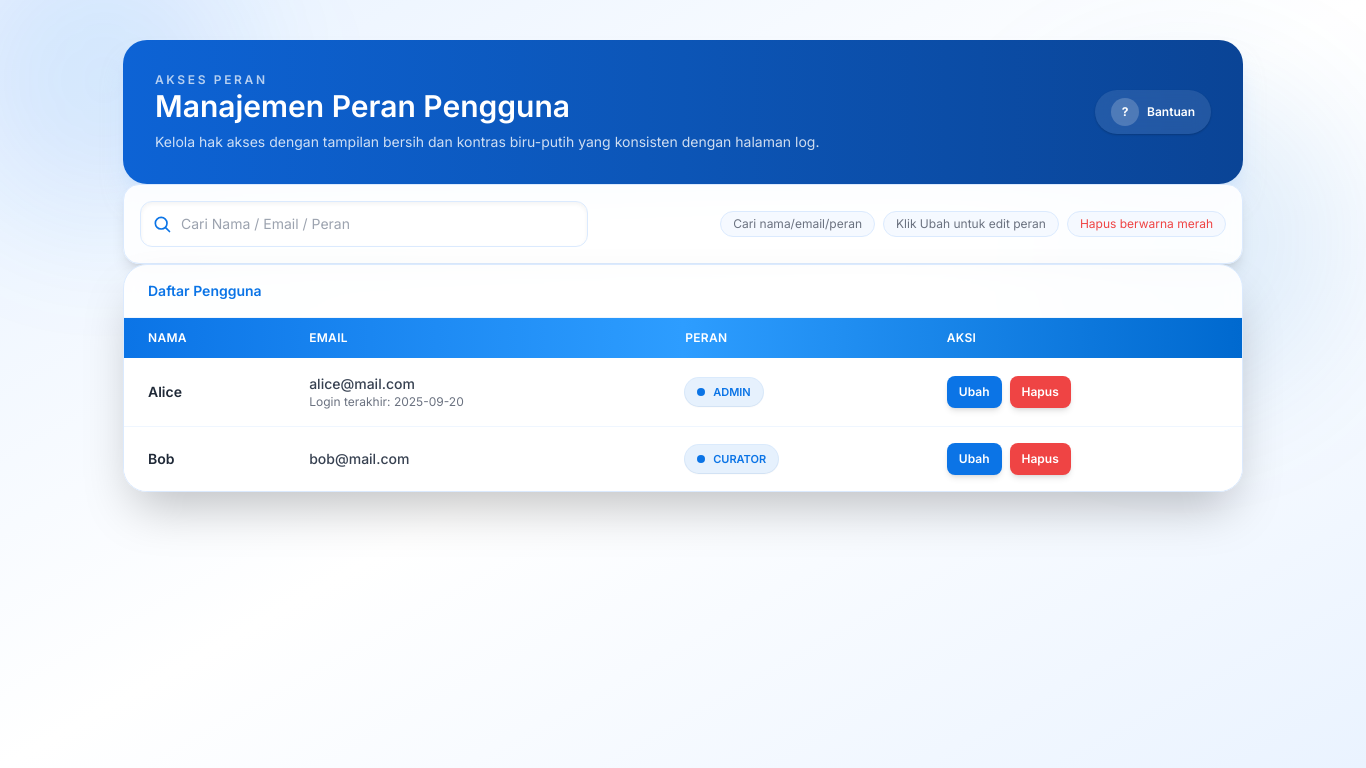
it: confirm modal flow (non-legacy) deletes and shows toast
This screenshot has width=1366, height=768.
expect the text "Bob" is shown: met, box [148,450,174,467]
# click Hapus to open modal
Click the button "Hapus" in the row of "bob@mail.com".
click(1040, 459)  # box [1010,443,1071,475]
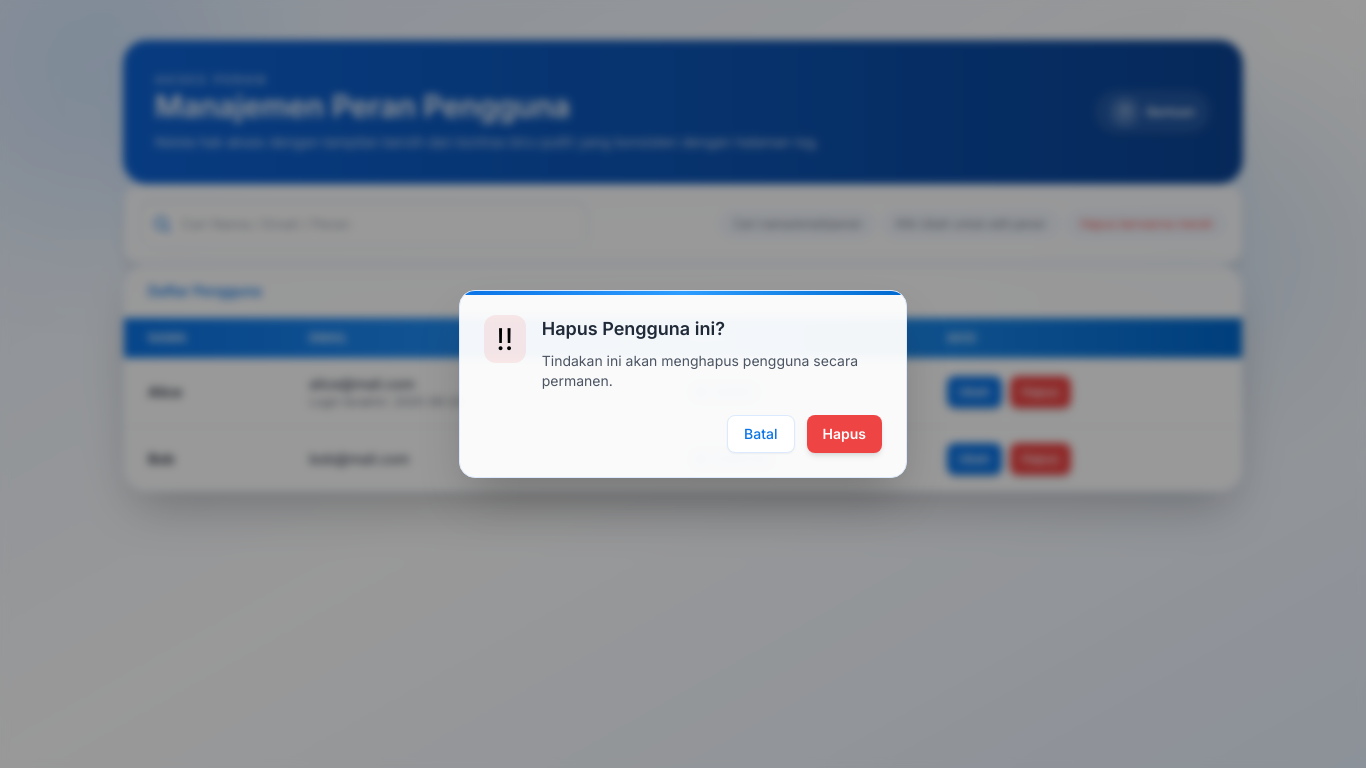
expect the heading "Hapus Pengguna ini?" is shown: met, box [542,318,725,339]
# the modal Hapus is the last one rendered inside modal
Click the button "Hapus".
click(844, 434)  # box [806,415,882,453]
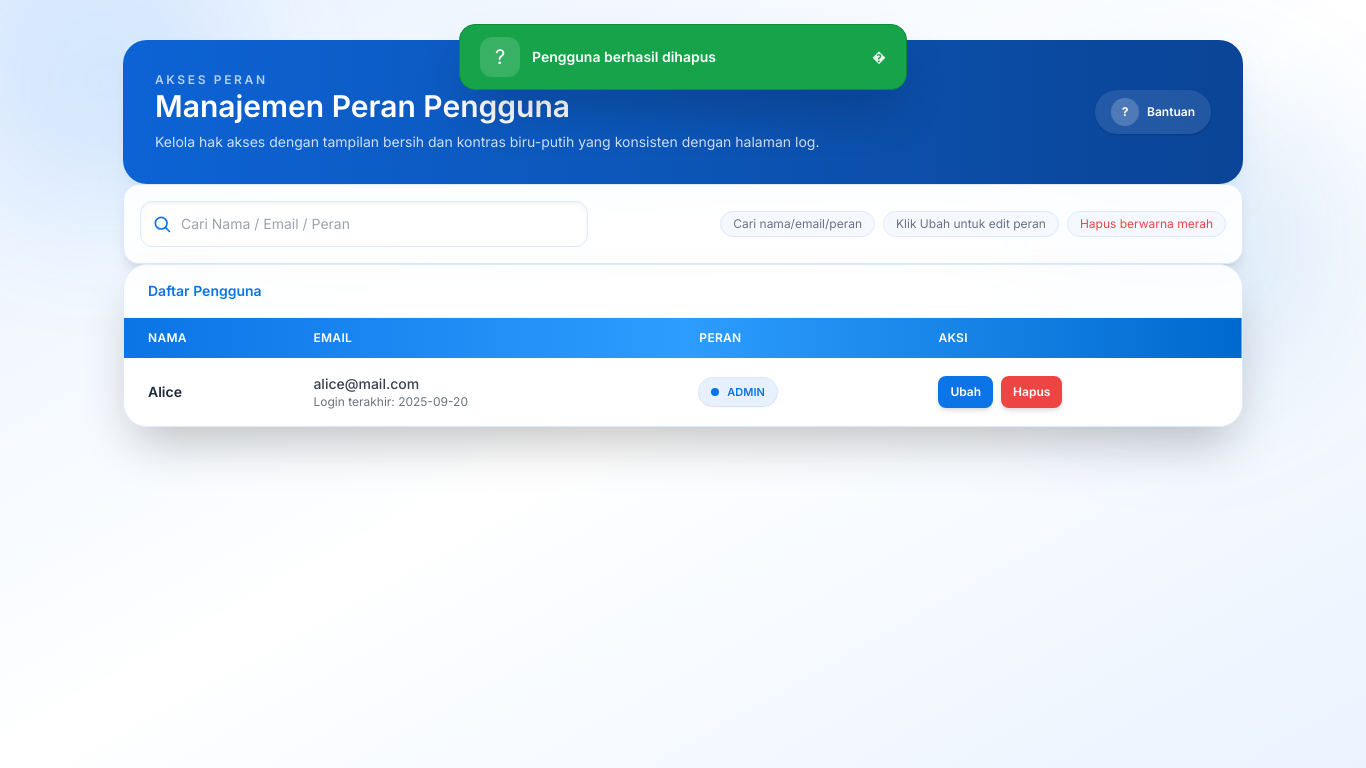
expect the text "Pengguna berhasil dihapus" is shown: met, box [532,48,716,65]
